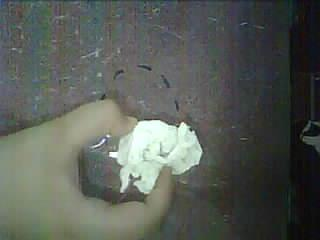paper: (110, 121, 202, 194)
